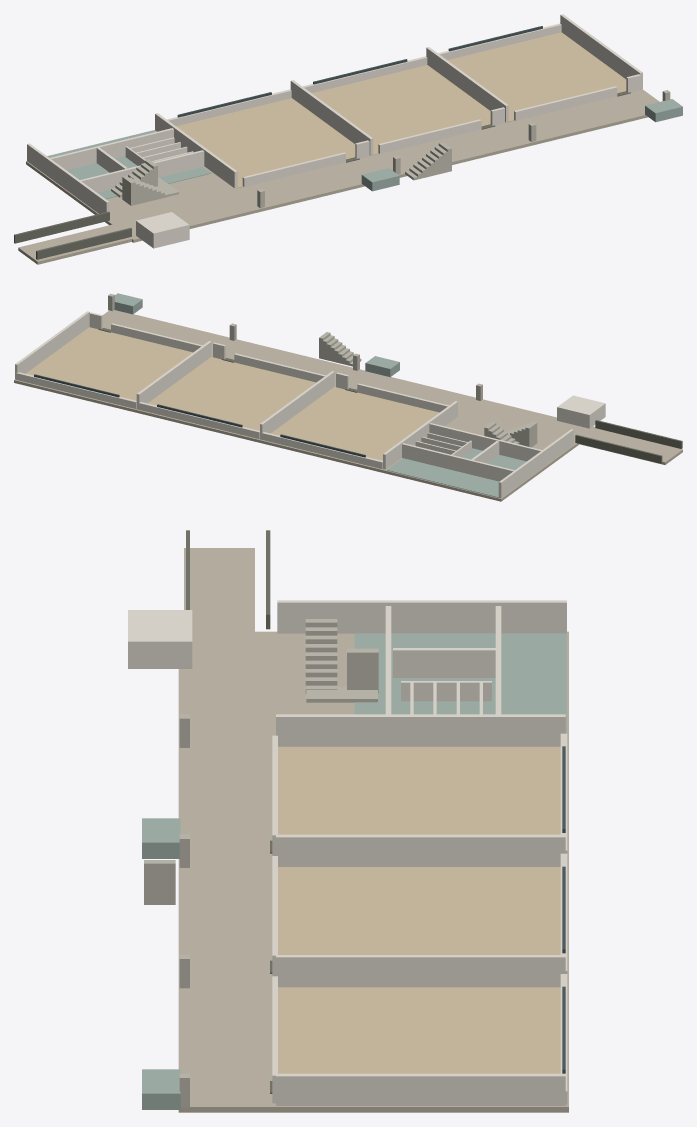
Rendered from ai-school-floor-3.glb.
3 renders of one model, top to bottom at view 1: azimuth 30°, elevation 25°; view 2: azimuth 150°, elevation 25°; view 3: azimuth 270°, elevation 25°, orthographic. The views are drawn at different scales.
Visible parts, largest first — view 1: d9c9aa, eee9df, c7bfae, c9c6b9, a9bbb3, 77786c, 4e5e61; view 2: d9c9aa, eee9df, c7bfae, a9bbb3, c9c6b9, 77786c, 4e5e61; view 3: d9c9aa, eee9df, c7bfae, a9bbb3, c9c6b9, 4e5e61, 77786c.
Boxes of the visible parts, bbox=[...] form: d9c9aa: bbox=[176, 32, 640, 188]; eee9df: bbox=[27, 14, 642, 248]; c7bfae: bbox=[18, 89, 659, 264]; c9c6b9: bbox=[111, 90, 670, 208]; a9bbb3: bbox=[47, 99, 682, 199]; 77786c: bbox=[14, 91, 630, 259]; 4e5e61: bbox=[177, 26, 542, 117]; d9c9aa: bbox=[26, 327, 439, 469]; eee9df: bbox=[15, 311, 605, 497]; c7bfae: bbox=[14, 310, 682, 501]; a9bbb3: bbox=[114, 293, 526, 497]; c9c6b9: bbox=[108, 293, 537, 447]; 77786c: bbox=[98, 328, 682, 463]; 4e5e61: bbox=[34, 374, 365, 457]; d9c9aa: bbox=[278, 747, 560, 1073]; eee9df: bbox=[128, 600, 567, 1105]; c7bfae: bbox=[178, 548, 568, 1112]; a9bbb3: bbox=[142, 633, 566, 1109]; c9c6b9: bbox=[144, 619, 378, 1107]; 4e5e61: bbox=[562, 746, 565, 1073]; 77786c: bbox=[186, 530, 272, 1093].
Size of the model in its own units: 42.06 by 1.65 by 13.95.
